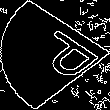P_SE: (12, 24, 98, 86)
